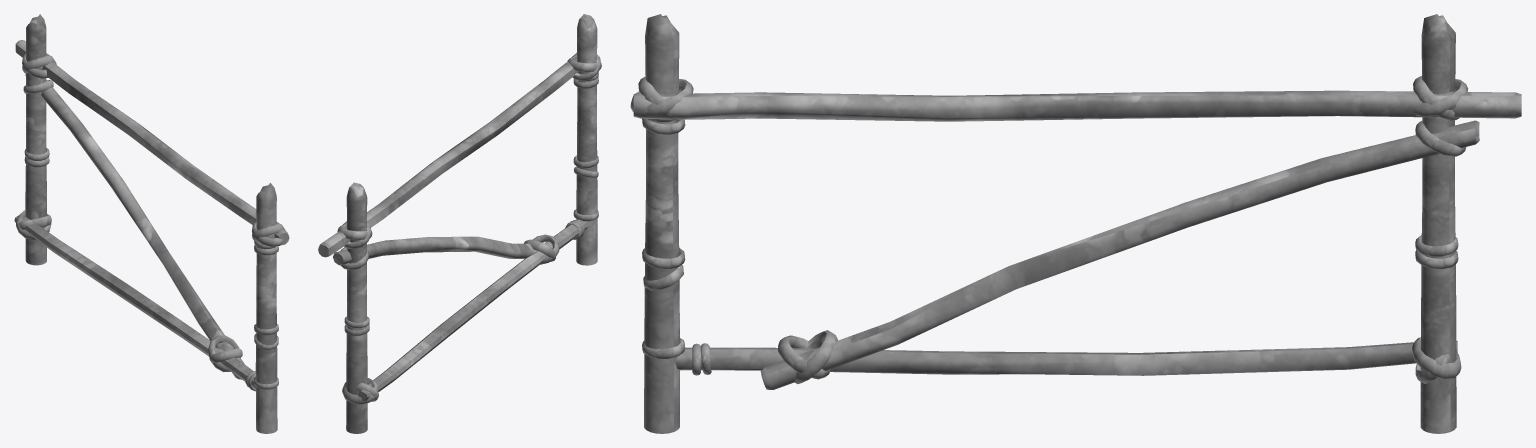
Rendered from SM_Fence_02a.fbx.
3 views of the same model, side by side, from view 1: azimuth 30°, elevation 25°; view 2: azimuth 150°, elevation 25°; view 3: azimuth 270°, elevation 25° (orthographic). The views are drawn at different scales.
Visible parts, largest first — view 1: SM_Fence_02a_LOD0; view 2: SM_Fence_02a_LOD0; view 3: SM_Fence_02a_LOD0.
Part boxes in pixels (box(x1,y1,x2,y2)): SM_Fence_02a_LOD0: box(14, 14, 289, 433); SM_Fence_02a_LOD0: box(318, 14, 601, 433); SM_Fence_02a_LOD0: box(630, 14, 1521, 433).
Size of the model in its own units: 27.38 by 337 by 173.
